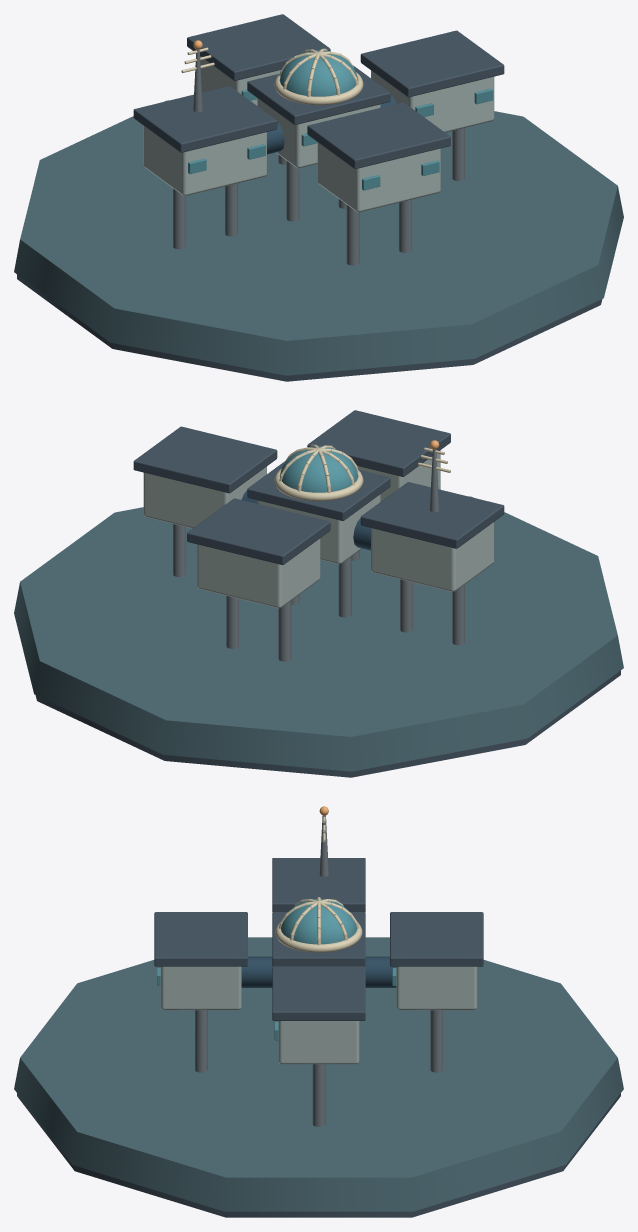
File: faraday.glb
3 renders of one model, top to bottom at view 1: azimuth 30°, elevation 25°; view 2: azimuth 150°, elevation 25°; view 3: azimuth 270°, elevation 25°, orthographic. The views are drawn at different scales.
Visible parts, largest first — view 1: Terrain cutaway, Roof slab (×5), Habitat pressure shell (×5), Stilt (×6), Substrate, Geodesic dome, Dome sill; view 2: Terrain cutaway, Roof slab (×5), Habitat pressure shell (×5), Stilt (×6), Substrate, Geodesic dome, Dome sill; view 3: Terrain cutaway, Roof slab (×5), Habitat pressure shell (×3), Substrate, Stilt (×3), Geodesic dome, Covered gangway (×2), Dome sill.
Part boxes in pixels (x1,y1,x2,y2): Terrain cutaway: [14, 100, 623, 375]; Roof slab (×5): [133, 14, 504, 168]; Habitat pressure shell (×5): [143, 56, 494, 212]; Stilt (×6): [173, 128, 464, 265]; Substrate: [17, 274, 602, 381]; Geodesic dome: [279, 50, 358, 96]; Dome sill: [274, 72, 363, 105]; Terrain cutaway: [14, 496, 623, 771]; Roof slab (×5): [133, 410, 504, 564]; Habitat pressure shell (×5): [143, 450, 494, 608]; Stilt (×6): [173, 524, 464, 661]; Substrate: [35, 670, 620, 777]; Geodesic dome: [279, 446, 358, 492]; Dome sill: [274, 468, 363, 501]; Terrain cutaway: [14, 937, 623, 1211]; Roof slab (×5): [154, 858, 483, 1020]; Habitat pressure shell (×3): [160, 966, 477, 1064]; Substrate: [17, 1093, 620, 1217]; Stilt (×3): [195, 1010, 442, 1126]; Geodesic dome: [281, 899, 356, 944]; Covered gangway (×2): [241, 956, 396, 987]; Dome sill: [275, 923, 362, 952].
Size of the model in its own units: 5.52 by 2.44 by 5.8.
